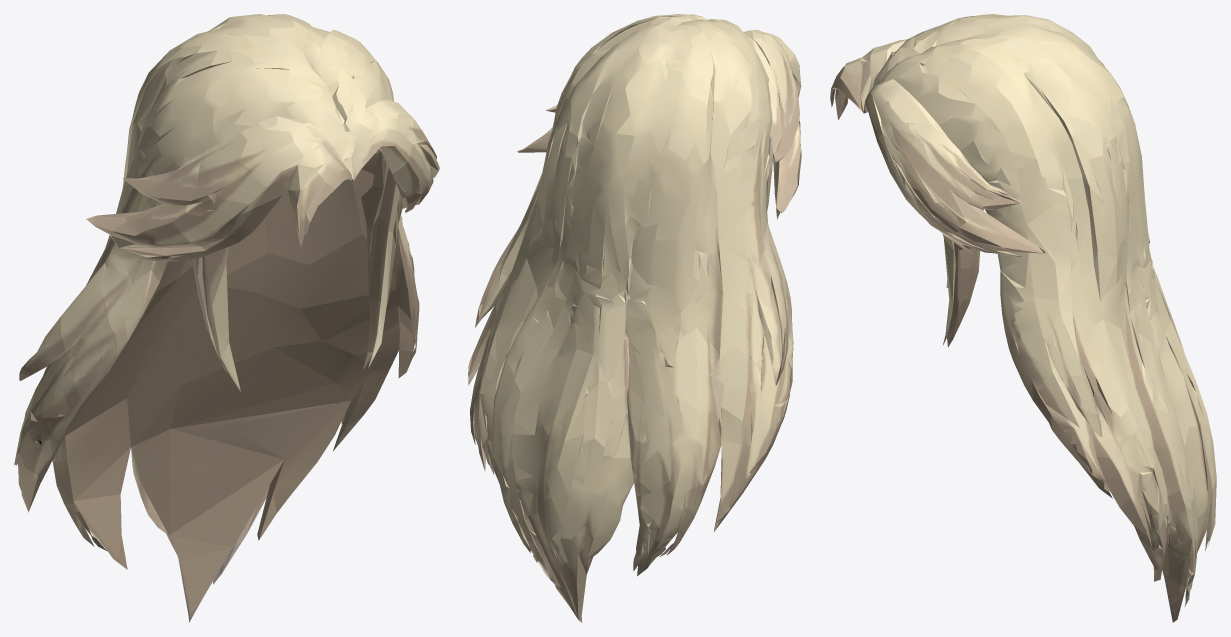
The model's file is fennal_f-longs.glb.
3 views of the same model, side by side, from view 1: azimuth 30°, elevation 25°; view 2: azimuth 150°, elevation 25°; view 3: azimuth 270°, elevation 25° (orthographic). The views are drawn at different scales.
Parts seen in each view (by area): view 1: geometry_0; view 2: geometry_0; view 3: geometry_0.
Boxes of the visible parts, box(x1,y1,x2,y2) form: geometry_0: box(14, 14, 439, 622); geometry_0: box(468, 14, 801, 622); geometry_0: box(830, 14, 1216, 622).
Size of the model in its own units: 1.15 by 1.9 by 1.13.
1 material, 1 textured.
